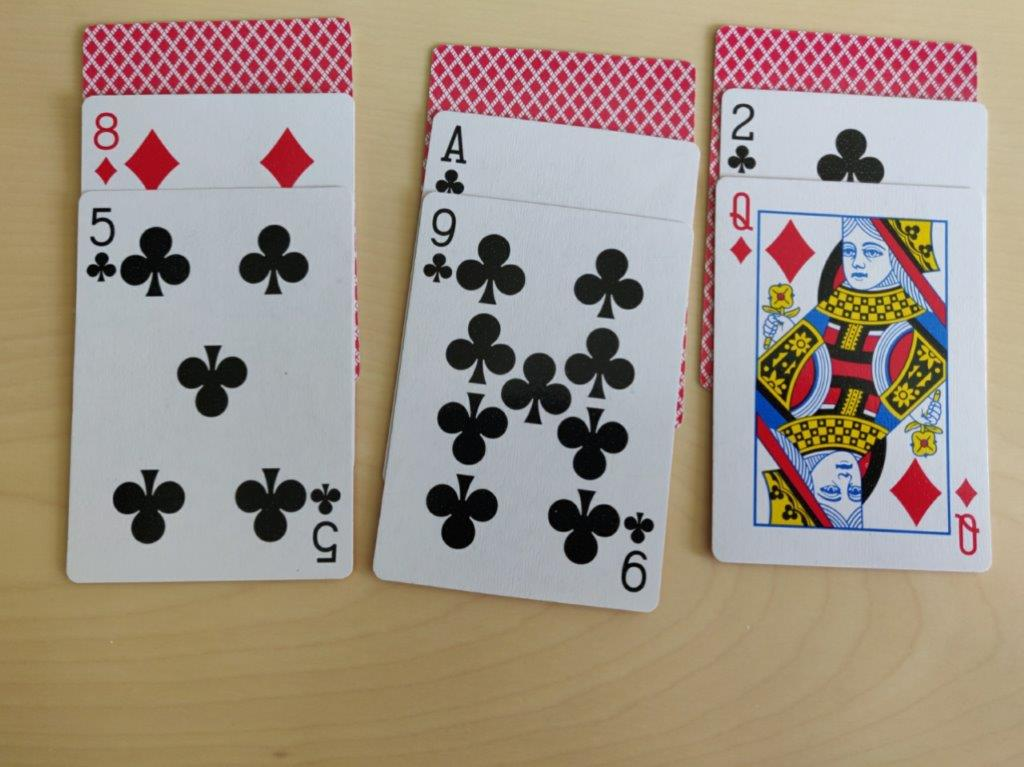2C: (725, 99, 762, 177)
5C: (86, 204, 123, 289)
8D: (84, 106, 128, 190)
9C: (414, 204, 459, 292)
AC: (434, 118, 466, 198)
BACK: (716, 14, 988, 101), (435, 46, 697, 131), (80, 17, 360, 93)
QD: (724, 188, 759, 270)
